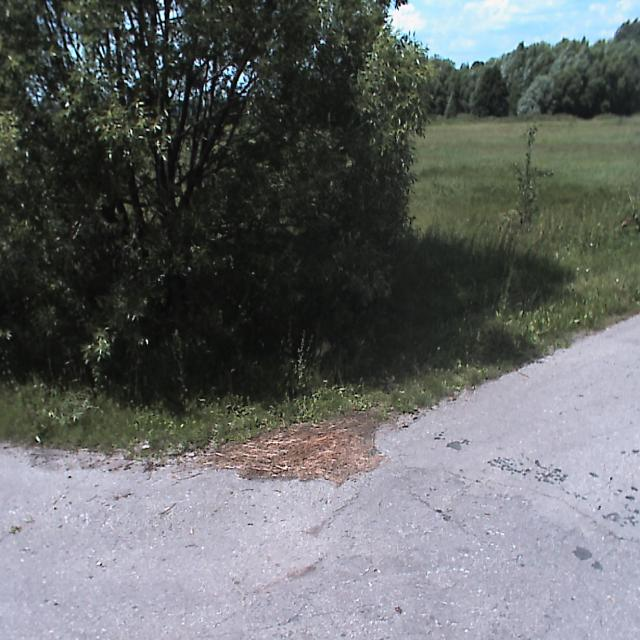road: (0, 311, 639, 639)
